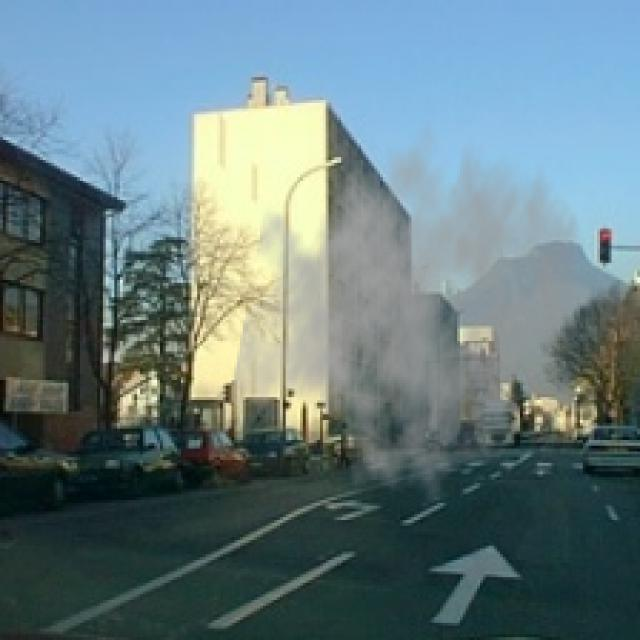smoke: (228, 103, 586, 508)
